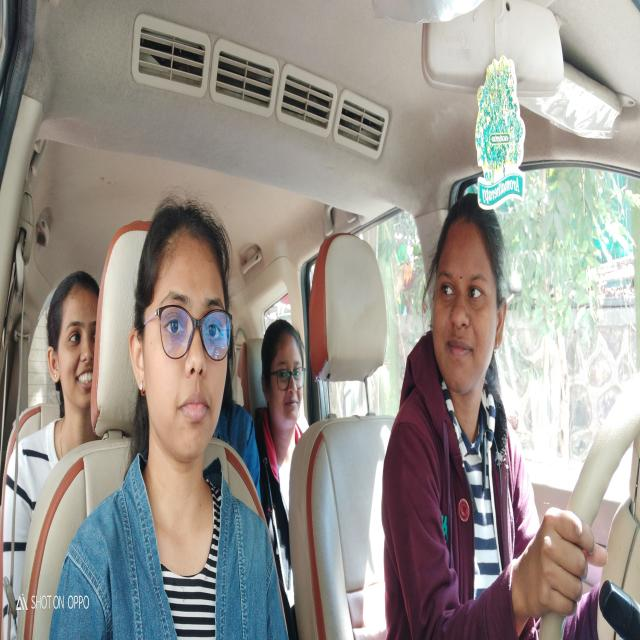LeftRight: (421, 160, 515, 428)
person: (128, 183, 243, 496), (43, 255, 101, 444), (262, 293, 312, 470)
